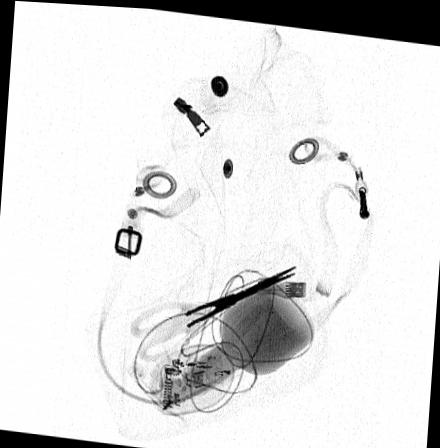Scissors: (126, 256, 299, 360)
